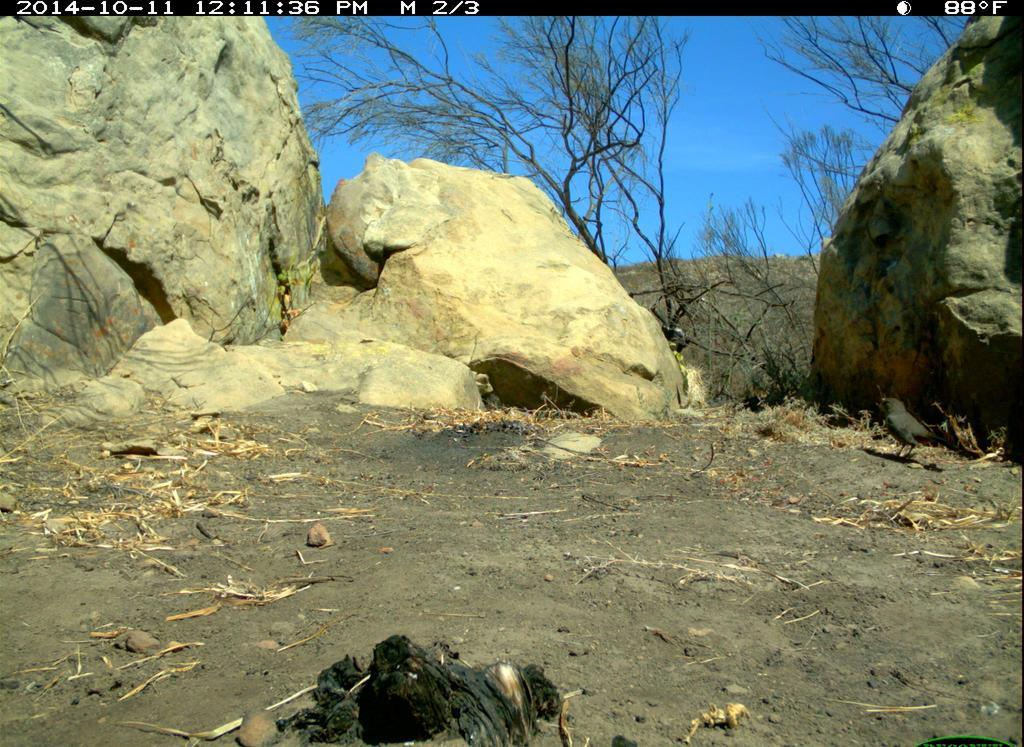bird: (872, 388, 976, 475)
